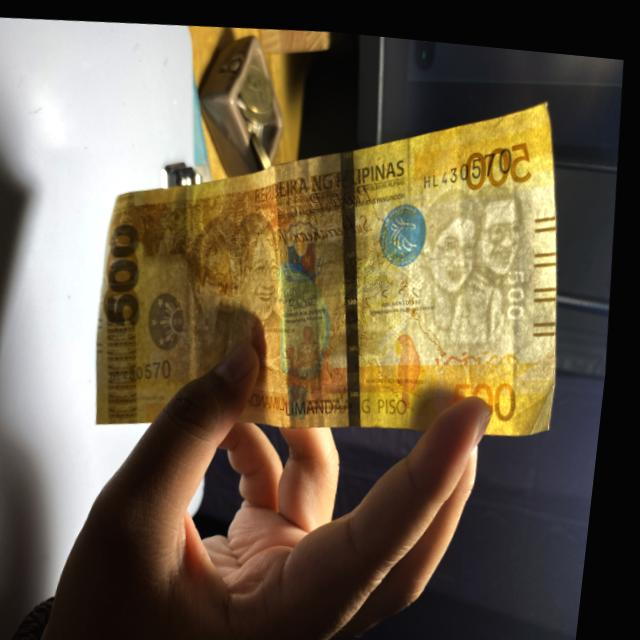500_big_parrot: (246, 212, 359, 419)
500_parrot_watermark: (392, 322, 435, 406)
value_watermark: (506, 255, 540, 312)
watermark: (417, 170, 540, 328)
